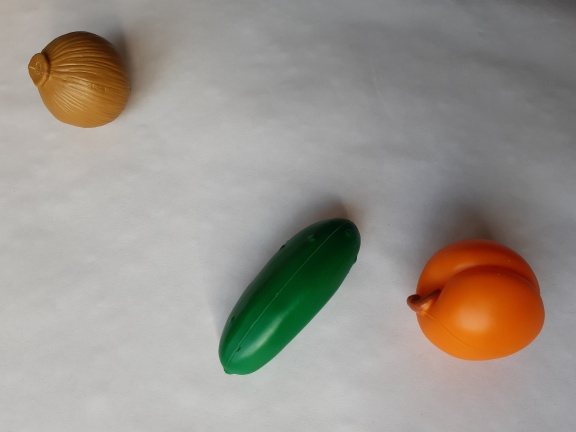apricot: (400, 230, 556, 371)
cucumber: (200, 205, 375, 392)
onion: (20, 25, 143, 140)
